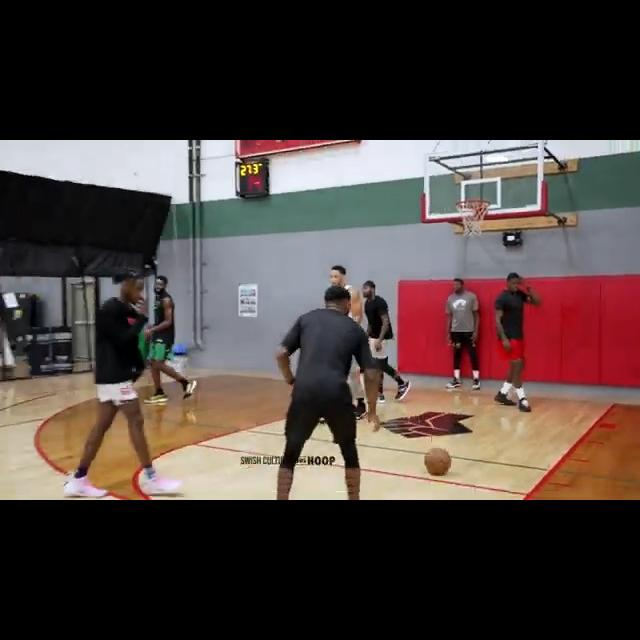basketball: (424, 447, 453, 477)
hoop: (456, 199, 491, 239)
